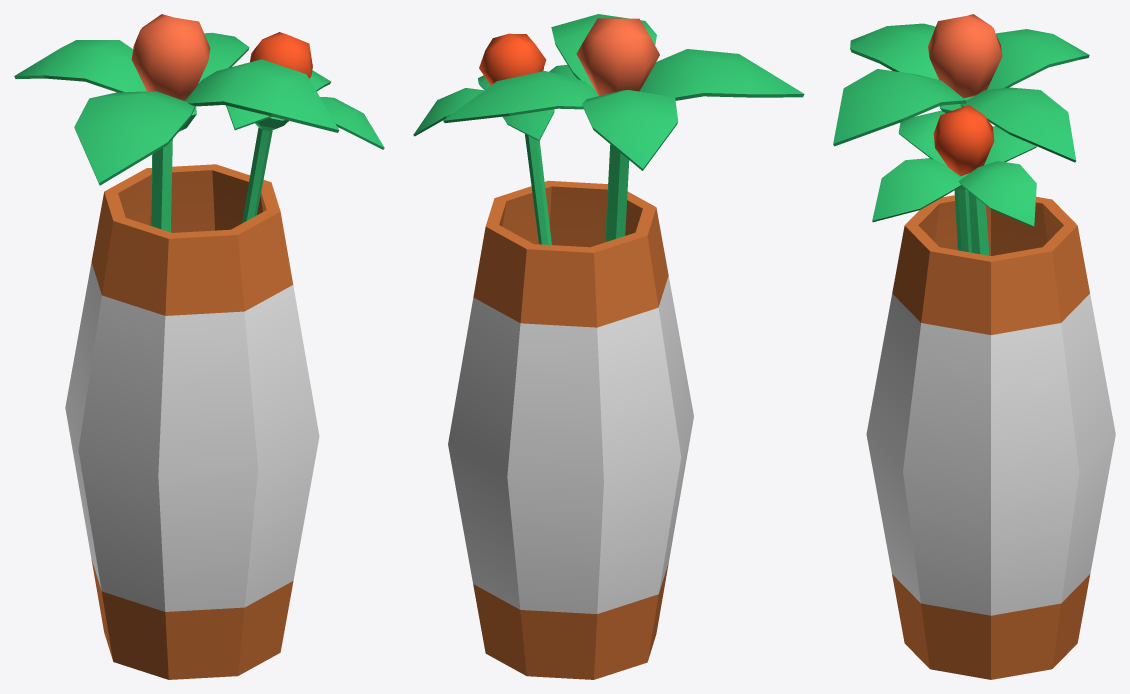
The model's file is Vase of Flower LV2.fbx.
3 renders of one model, left to right at view 1: azimuth 30°, elevation 25°; view 2: azimuth 150°, elevation 25°; view 3: azimuth 270°, elevation 25°, orthographic. The views are drawn at different scales.
Visible parts, largest first — view 1: Vase_of_Flower_LV2; view 2: Vase_of_Flower_LV2; view 3: Vase_of_Flower_LV2.
Boxes of the visible parts, left/top/right/bottom form: Vase_of_Flower_LV2: left=14, top=14, right=384, bottom=679; Vase_of_Flower_LV2: left=413, top=14, right=804, bottom=679; Vase_of_Flower_LV2: left=833, top=14, right=1115, bottom=679.
Size of the model in its own units: 28.11 by 56.32 by 23.63.
